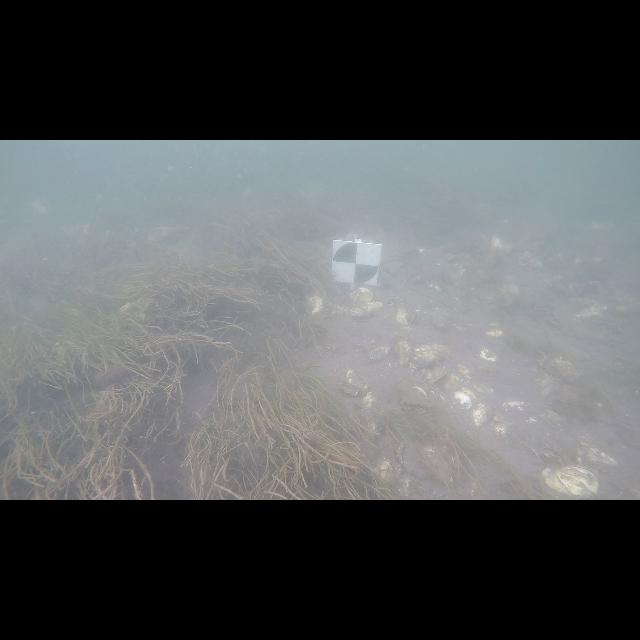Oyster-Closed: (541, 466, 599, 498), (411, 344, 449, 368), (339, 370, 368, 396), (476, 349, 500, 372), (395, 335, 411, 365), (421, 368, 448, 384), (306, 295, 324, 316), (350, 288, 372, 305), (471, 404, 488, 426), (366, 346, 390, 361), (396, 308, 416, 325), (454, 391, 472, 409), (362, 391, 378, 410), (486, 322, 504, 338), (502, 401, 528, 412), (456, 365, 472, 380), (472, 384, 492, 395), (526, 418, 536, 422)
Oyster-Open: (398, 379, 432, 414), (350, 301, 382, 321), (396, 439, 410, 471)
